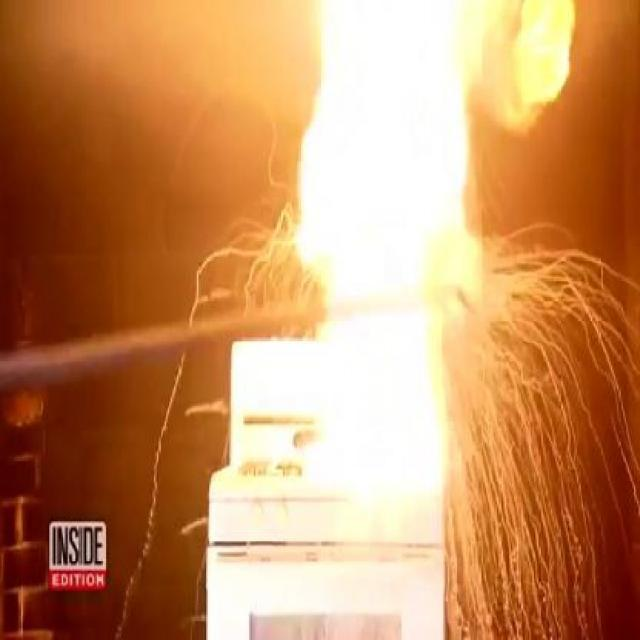fire: (282, 9, 548, 318)
